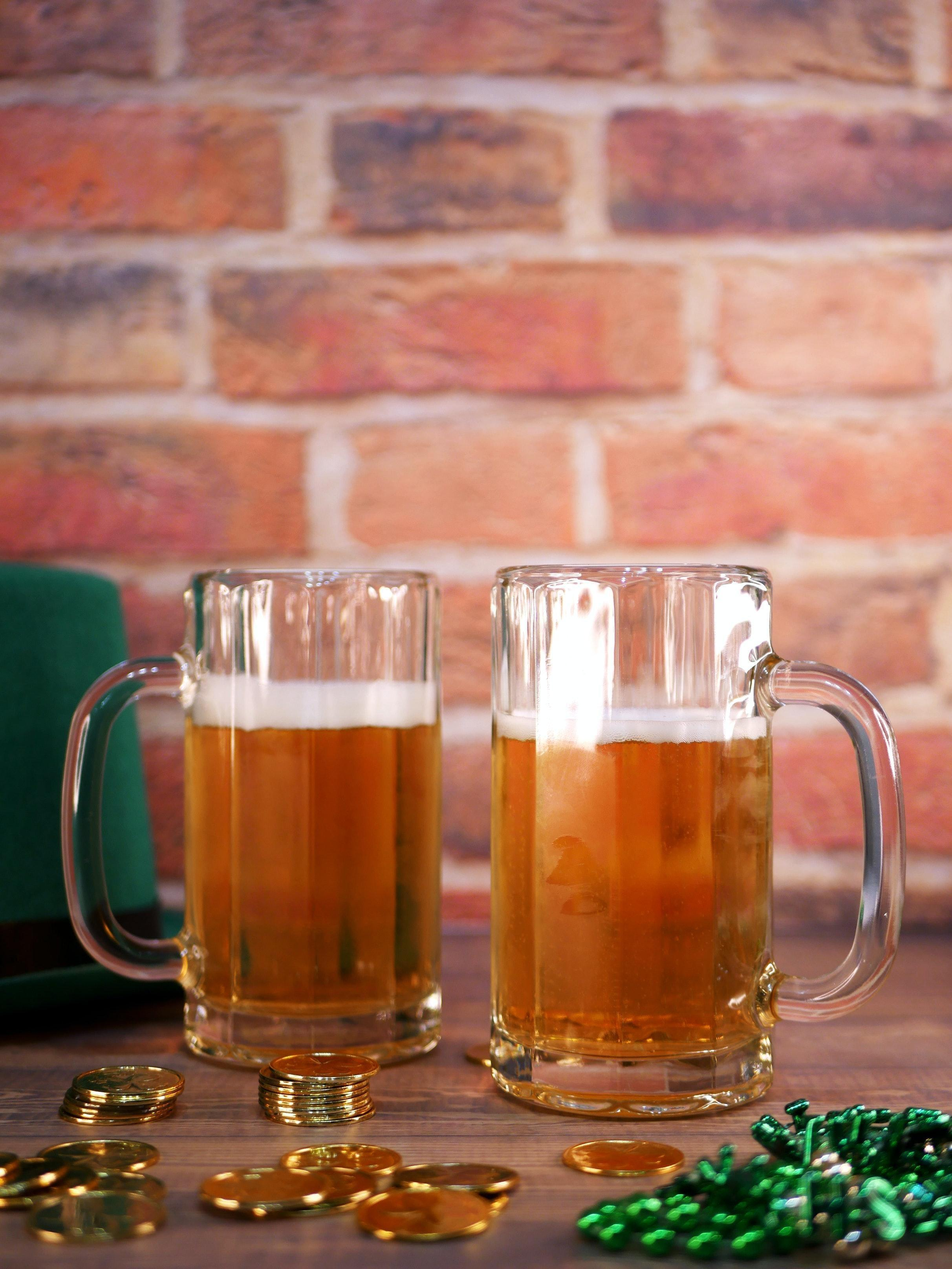glass-mug: (480, 554, 913, 1125), (56, 556, 452, 1075)
